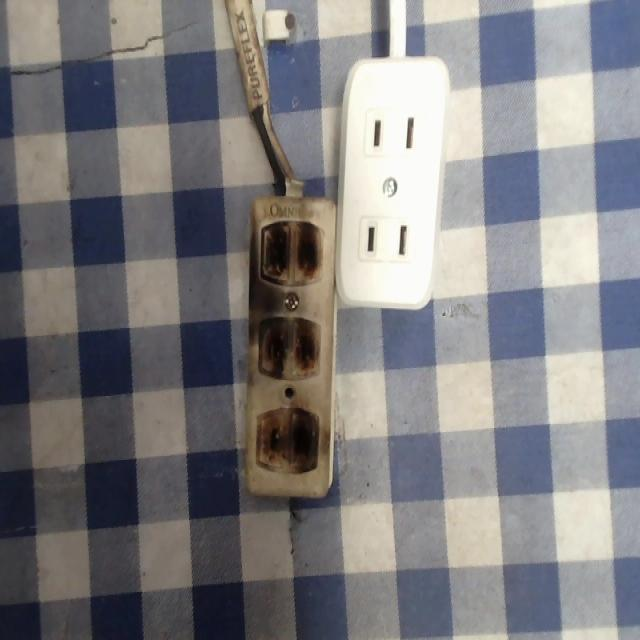-: (253, 403, 325, 484), (257, 214, 328, 290), (255, 312, 323, 387)
